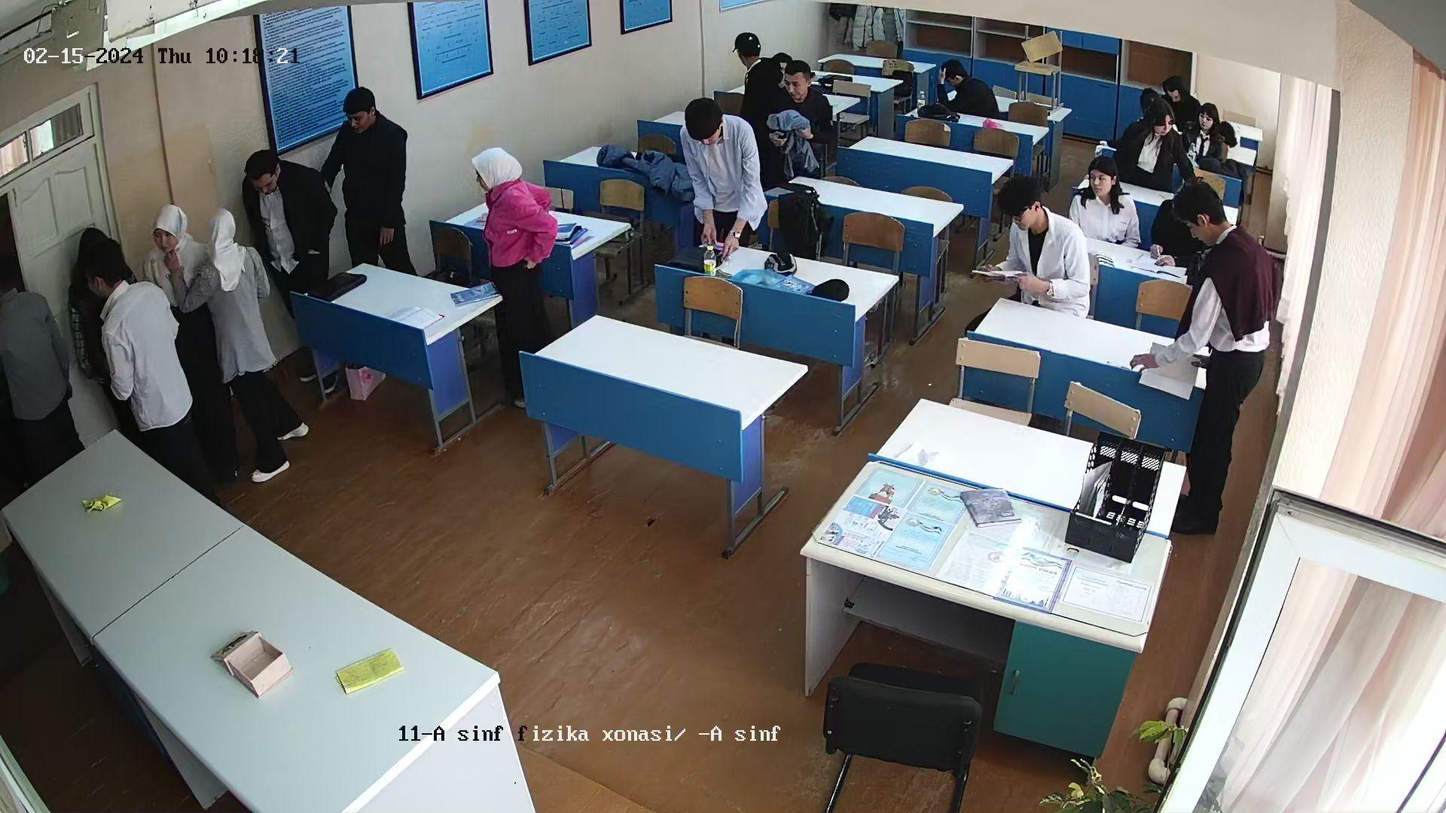Hand Under Table: (1121, 213, 1149, 254)
Look Around: (936, 55, 996, 120), (733, 31, 777, 97)
Normal: (990, 185, 1087, 312), (1193, 101, 1232, 169), (1158, 78, 1195, 104)
Stand Up: (1179, 183, 1274, 540), (473, 142, 555, 365), (91, 259, 177, 435), (204, 206, 253, 480), (332, 91, 410, 262), (677, 99, 759, 259), (242, 148, 329, 296), (7, 278, 62, 468), (730, 30, 780, 183), (1124, 105, 1198, 184), (785, 65, 829, 175)
